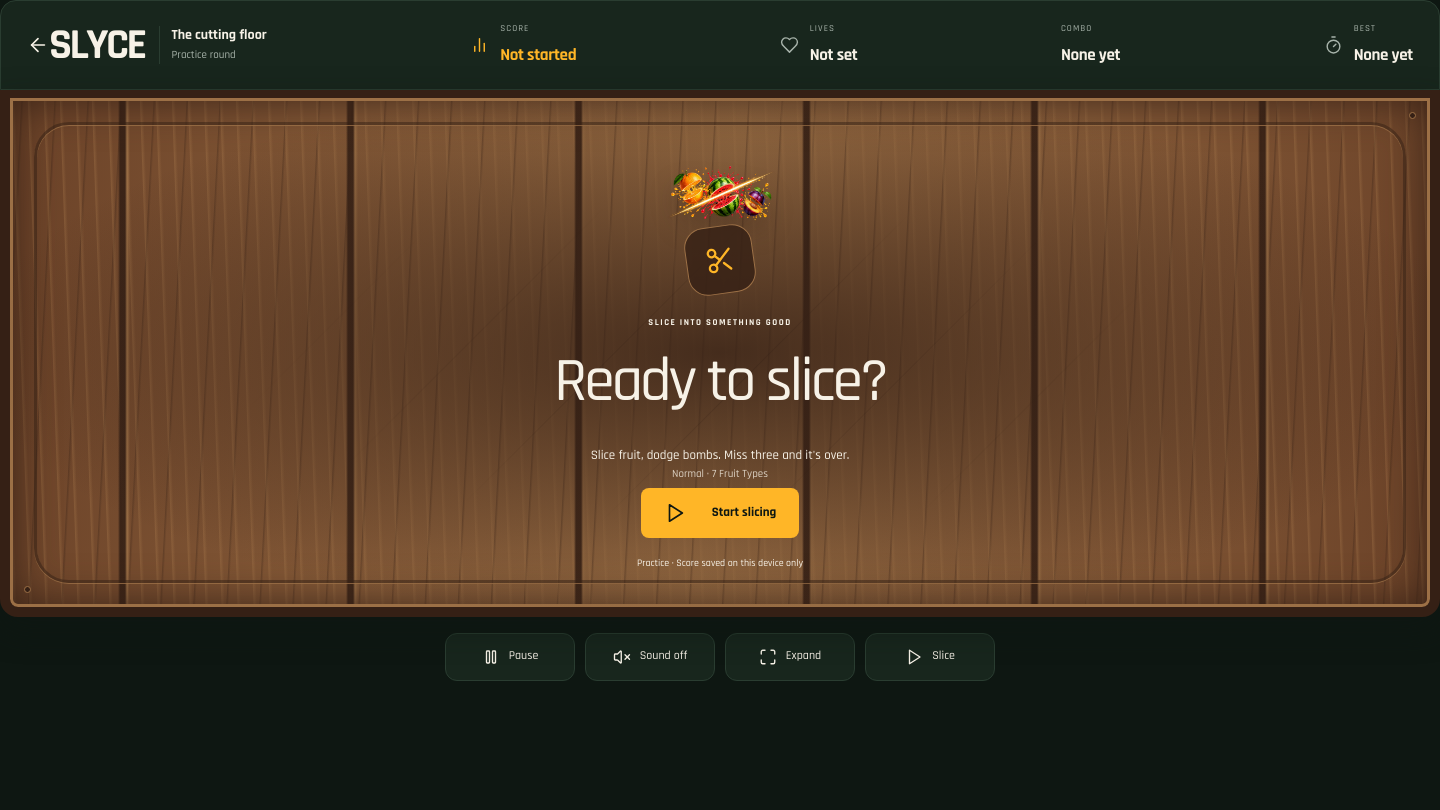
does not invent readings and uses bridge commands to pause and resume
Check: the text "Not started" is shown once, box [500,42,576,68]
Click the button with aria-label "Pause canvas": (510, 656) [445,632,575,680]
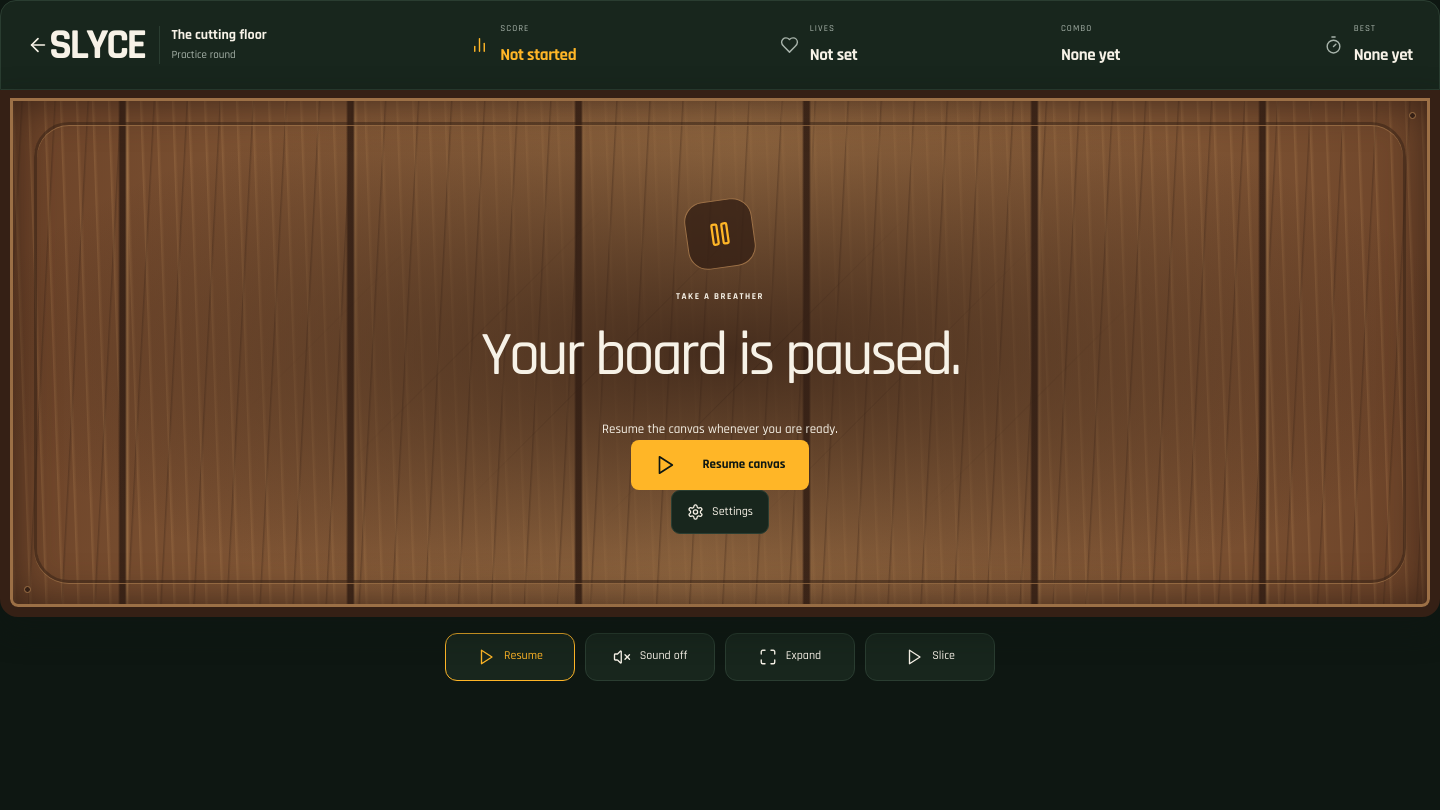
Check: the heading "Your board is paused." is shown, box [481,309,959,402]
Click the button with aria-label "Resume canvas": (510, 656) [445,632,575,680]
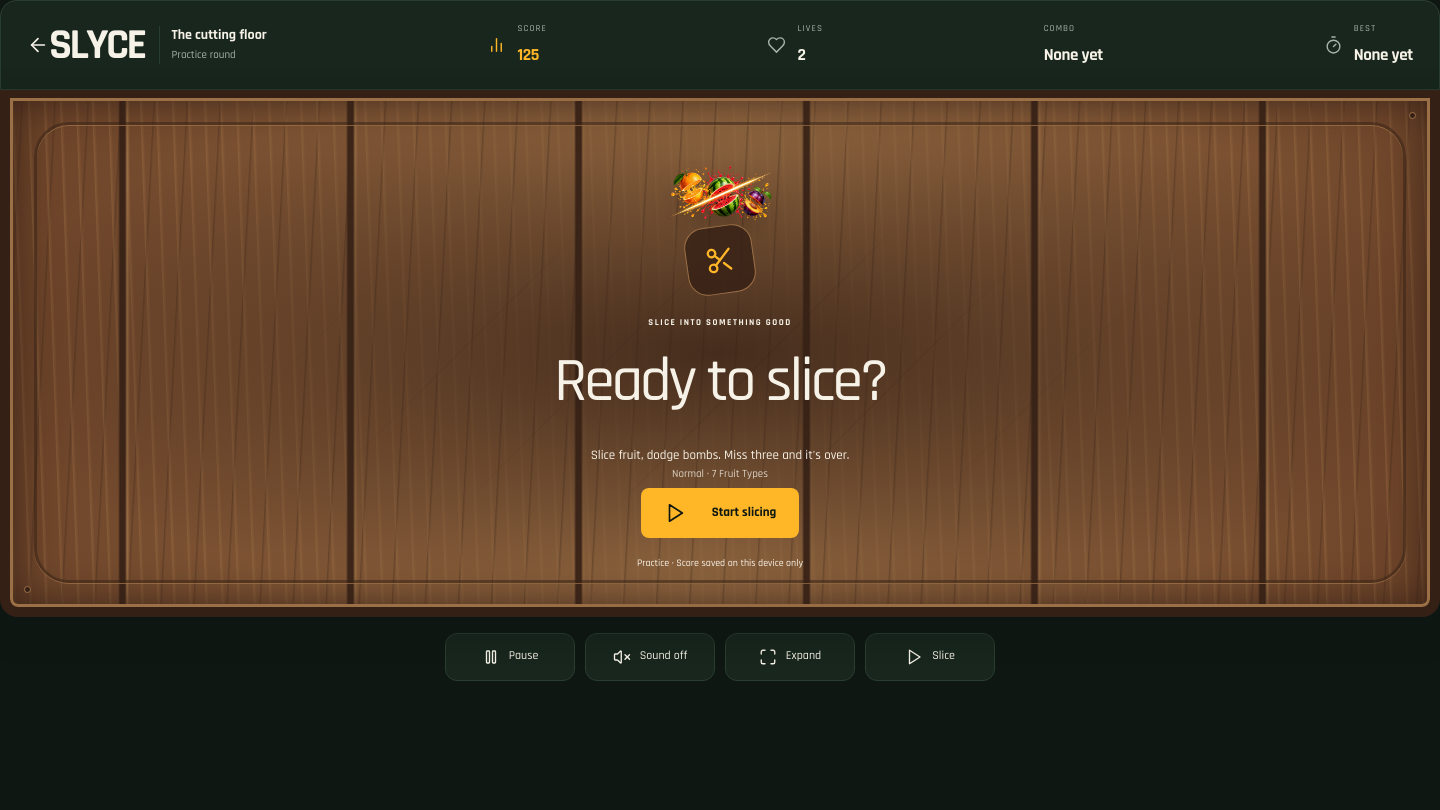
Check: the text "125" is shown, box [517,44,539,66]
Check: the text "2" is shown, box [798,44,806,66]
